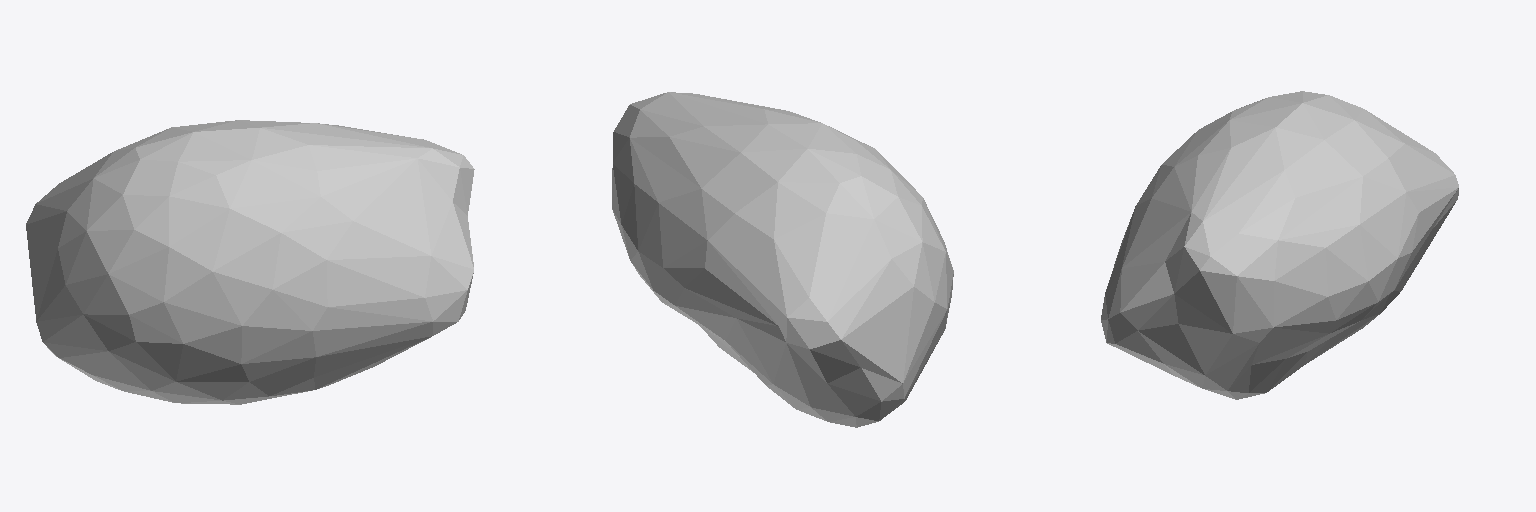
Rendered from smallRock02.obj.
3 views of the same model, side by side, from view 1: azimuth 30°, elevation 25°; view 2: azimuth 150°, elevation 25°; view 3: azimuth 270°, elevation 25° (orthographic).
Visible parts, largest first — view 1: smallRock02_Cube.188; view 2: smallRock02_Cube.188; view 3: smallRock02_Cube.188.
Boxes of the visible parts, <box> form: smallRock02_Cube.188: <box>26,120,474,404</box>; smallRock02_Cube.188: <box>612,92,953,427</box>; smallRock02_Cube.188: <box>1101,91,1458,399</box>.
Bounding box in the file's own units: 0.6724 × 0.4658 × 0.5844.